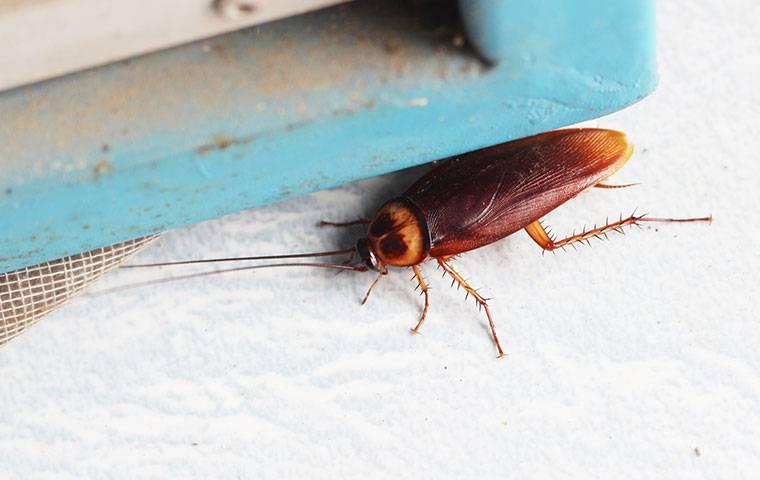cockroach: (348, 124, 635, 276)
